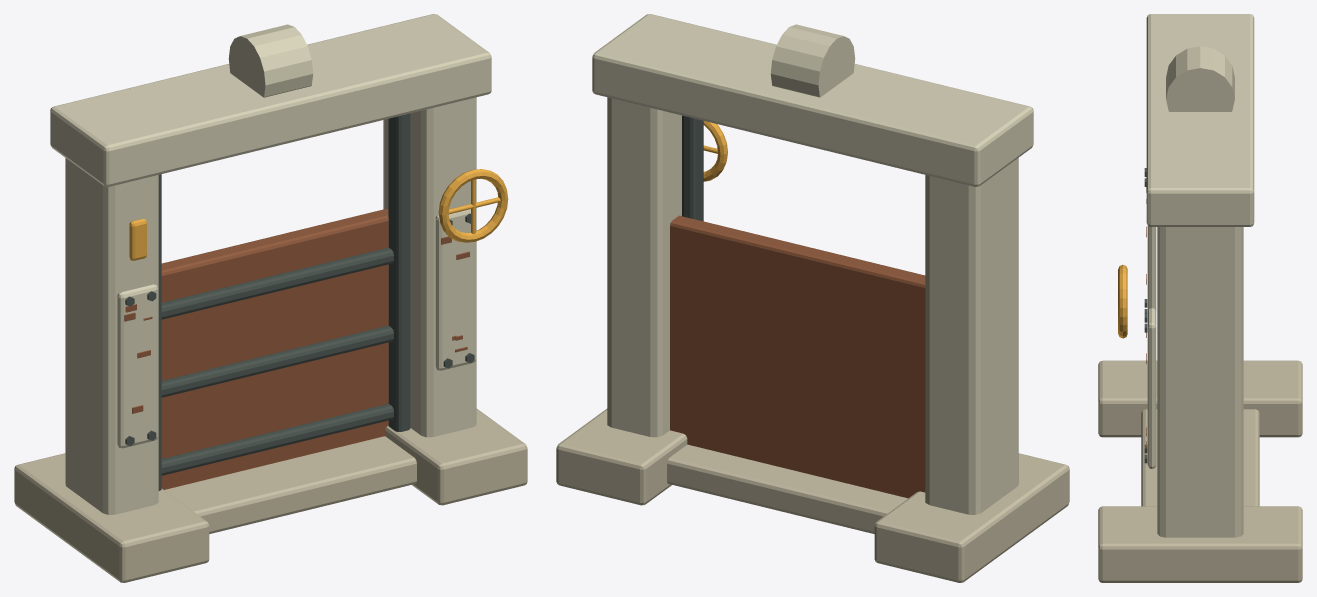
The model's file is Sluice_Gate_Closed.glb.
The picture shows the model from 3 angles, left to right: view 1: azimuth 30°, elevation 25°; view 2: azimuth 150°, elevation 25°; view 3: azimuth 270°, elevation 25°; orthographic projection. The views are drawn at different scales.
Visible parts, largest first — view 1: Gate leaf, Lintel, Pylon, Pylon.001, Gate footing, Sill, Gate footing.001, Slide rail.001, Pylon inset, Pylon inset.001, Lift motor, Gate rib.001 (+5 smaller); view 2: Gate leaf, Lintel, Pylon, Pylon.001, Gate footing, Sill, Gate footing.001, Lift motor, Slide rail.001, Valve wheel; view 3: Pylon.001, Lintel, Gate footing.001, Gate footing, Lift motor, Sill, Pylon inset.001, Pylon inset, Valve wheel.
Part boxes in pixels (x1=…): Gate leaf: x1=161, y1=208, x2=388, y2=489; Lintel: x1=50, y1=14, x2=491, y2=186; Pylon: x1=65, y1=158, x2=158, y2=514; Pylon.001: x1=383, y1=97, x2=476, y2=437; Gate footing: x1=14, y1=453, x2=209, y2=582; Sill: x1=164, y1=436, x2=416, y2=533; Gate footing.001: x1=385, y1=408, x2=527, y2=505; Slide rail.001: x1=388, y1=113, x2=410, y2=431; Pylon inset: x1=117, y1=284, x2=157, y2=448; Pylon inset.001: x1=435, y1=209, x2=476, y2=370; Lift motor: x1=228, y1=24, x2=313, y2=97; Gate rib.001: x1=161, y1=325, x2=393, y2=397; Gate leaf: x1=670, y1=215, x2=925, y2=498; Lintel: x1=592, y1=14, x2=1033, y2=186; Pylon: x1=925, y1=158, x2=1018, y2=514; Pylon.001: x1=607, y1=97, x2=681, y2=437; Gate footing: x1=874, y1=453, x2=1069, y2=582; Sill: x1=667, y1=444, x2=907, y2=533; Gate footing.001: x1=556, y1=408, x2=687, y2=505; Lift motor: x1=770, y1=24, x2=855, y2=97; Slide rail.001: x1=682, y1=115, x2=703, y2=221; Valve wheel: x1=703, y1=121, x2=727, y2=181; Pylon.001: x1=1157, y1=227, x2=1243, y2=537; Lintel: x1=1146, y1=14, x2=1254, y2=226; Gate footing.001: x1=1098, y1=506, x2=1302, y2=582; Gate footing: x1=1098, y1=360, x2=1302, y2=437; Lift motor: x1=1166, y1=46, x2=1234, y2=111; Sill: x1=1141, y1=409, x2=1259, y2=506; Pylon inset.001: x1=1147, y1=308, x2=1156, y2=468; Pylon inset: x1=1147, y1=226, x2=1156, y2=311; Valve wheel: x1=1118, y1=264, x2=1127, y2=338.
Size of the model in its own units: 4.1 by 4.45 by 1.9.
